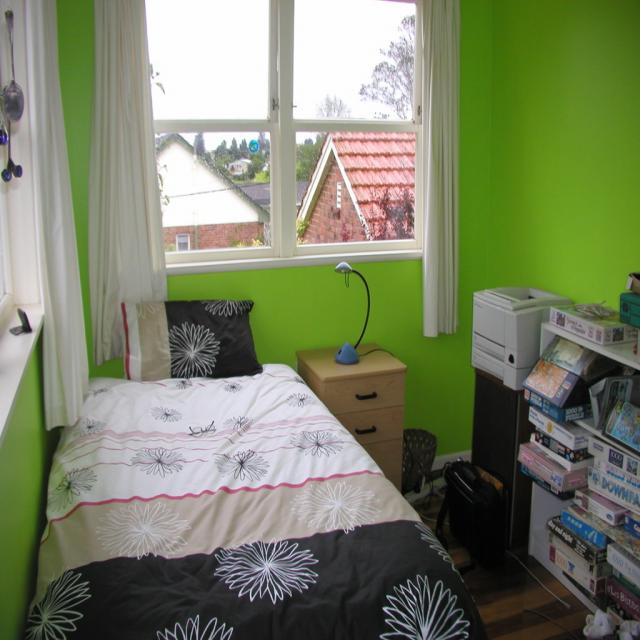desk: (290, 344, 422, 478)
